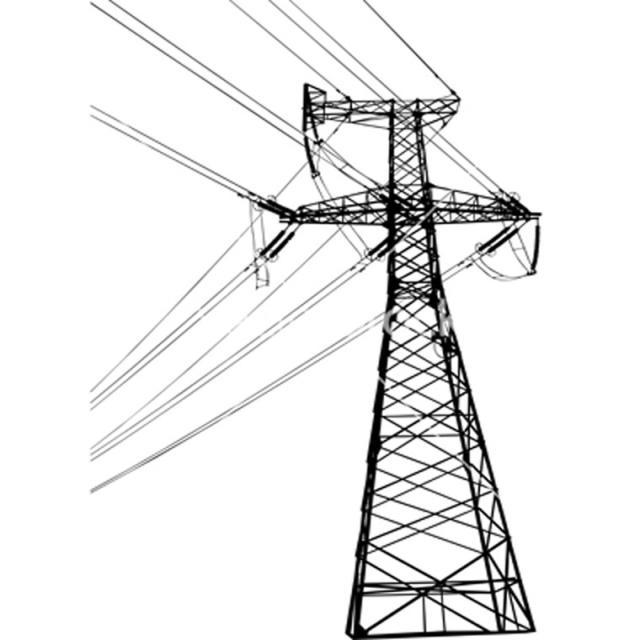non-critical vegetation: (277, 82, 525, 573)
